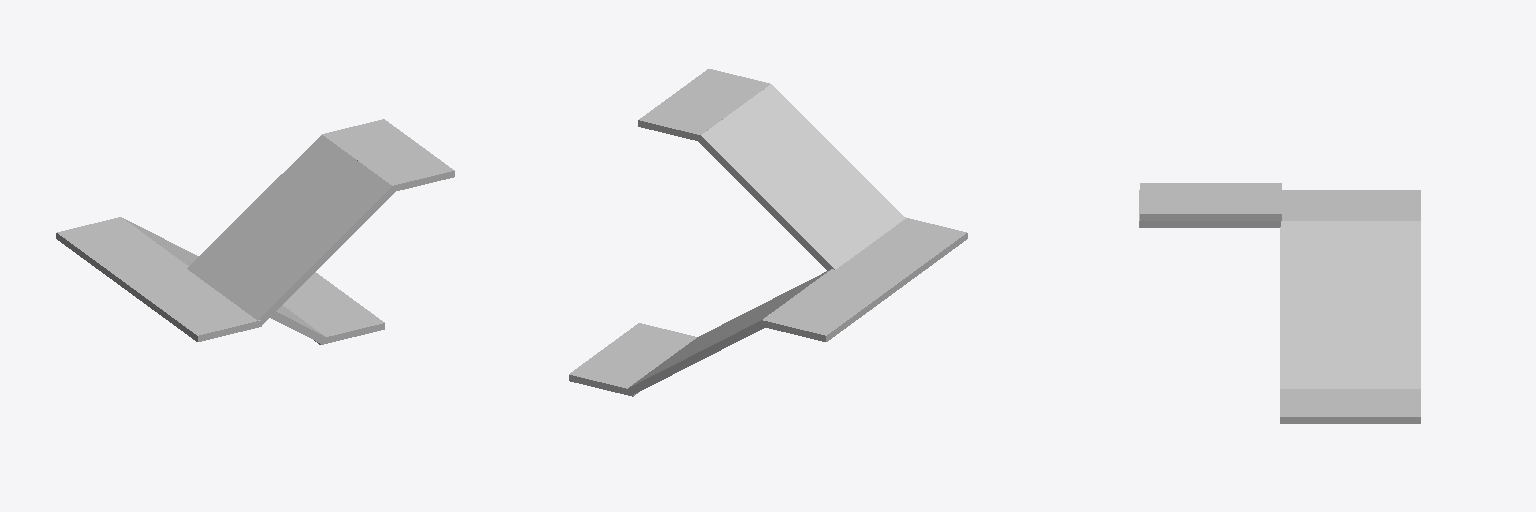
Rendered from escaleraposicio.obj.
3 renders of one model, left to right at view 1: azimuth 30°, elevation 25°; view 2: azimuth 150°, elevation 25°; view 3: azimuth 270°, elevation 25°, orthographic.
Parts seen in each view (by area): view 1: Cube.004; view 2: Cube.004; view 3: Cube.004.
Boxes of the visible parts, x1=… form: Cube.004: x1=56, y1=119, x2=454, y2=344; Cube.004: x1=569, y1=69, x2=967, y2=396; Cube.004: x1=1139, y1=183, x2=1420, y2=423.
Bounding box in the file's own units: 5.21 × 4.05 × 4.94.